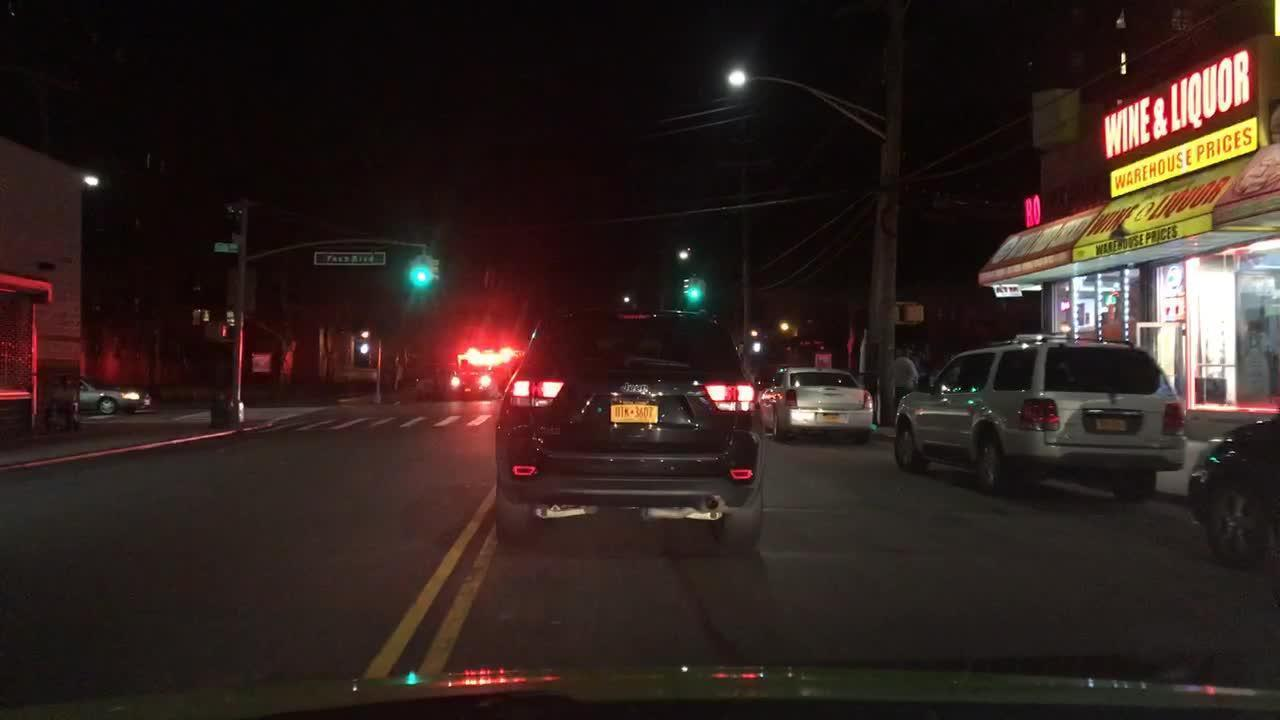jeep: (617, 380, 654, 399)
